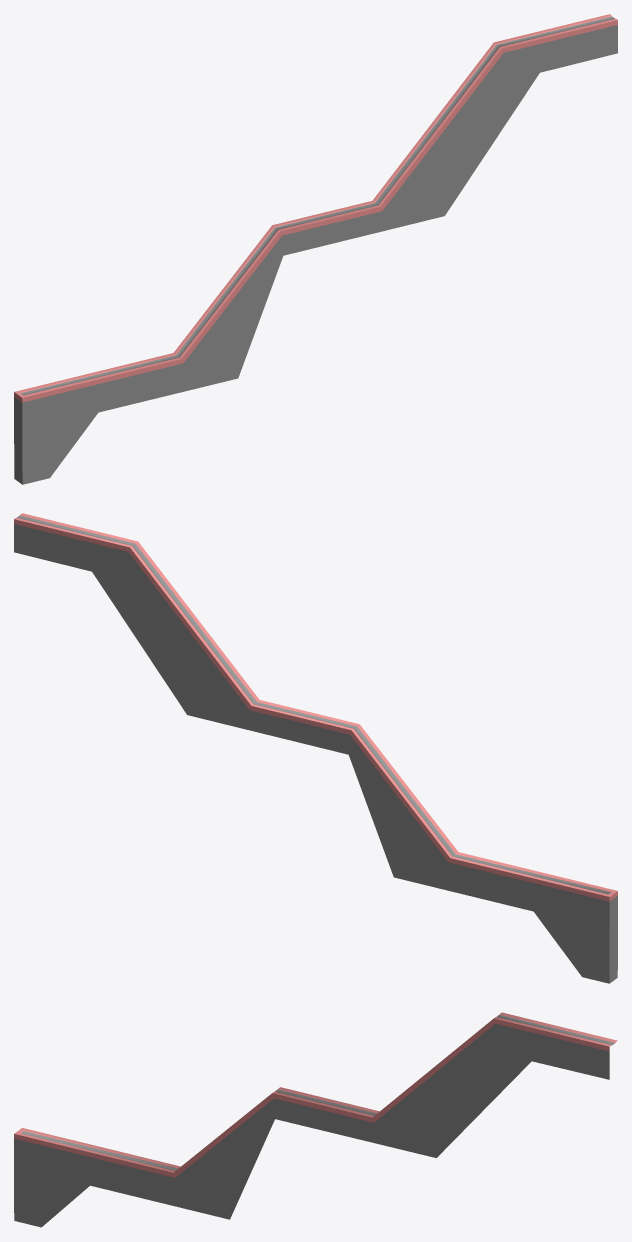
File: CHN_StaircaseWalls01.gltf
3 renders of one model, top to bottom at view 1: azimuth 30°, elevation 25°; view 2: azimuth 150°, elevation 25°; view 3: azimuth 330°, elevation 25°, orthographic.
Parts seen in each view (by area): view 1: CHN_StaircaseWalls01; view 2: CHN_StaircaseWalls01; view 3: CHN_StaircaseWalls01.
Part boxes in pixels (bbox=[...]): CHN_StaircaseWalls01: bbox=[14, 14, 617, 484]; CHN_StaircaseWalls01: bbox=[14, 513, 617, 983]; CHN_StaircaseWalls01: bbox=[14, 1012, 617, 1227].
Size of the model in its own units: 96.97 by 49.67 by 2.34.
